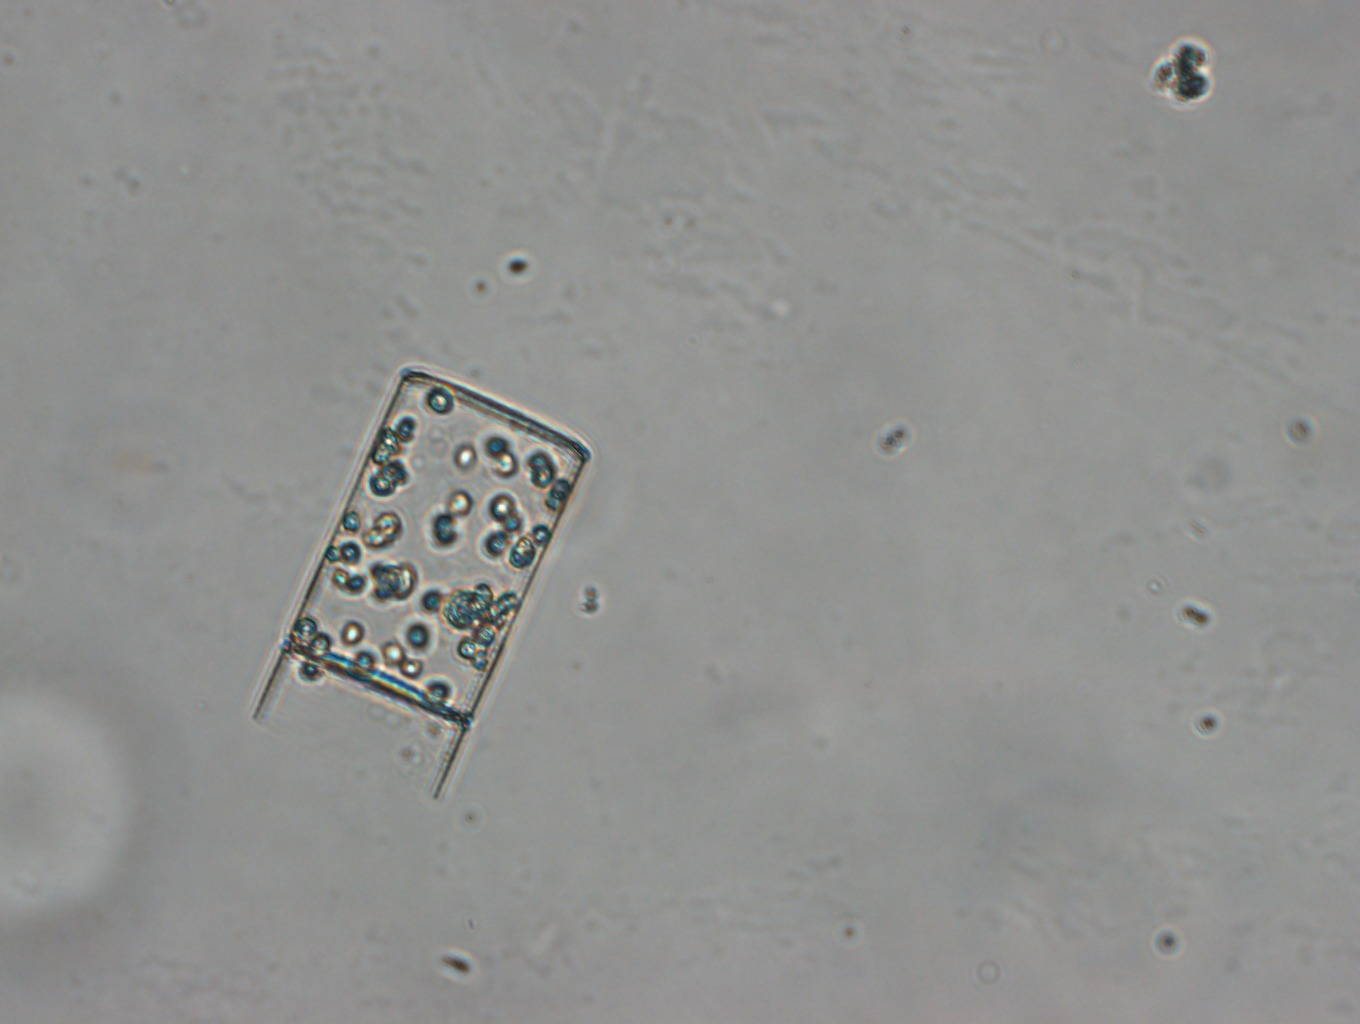guinardia flaccida: (252, 362, 591, 802)
